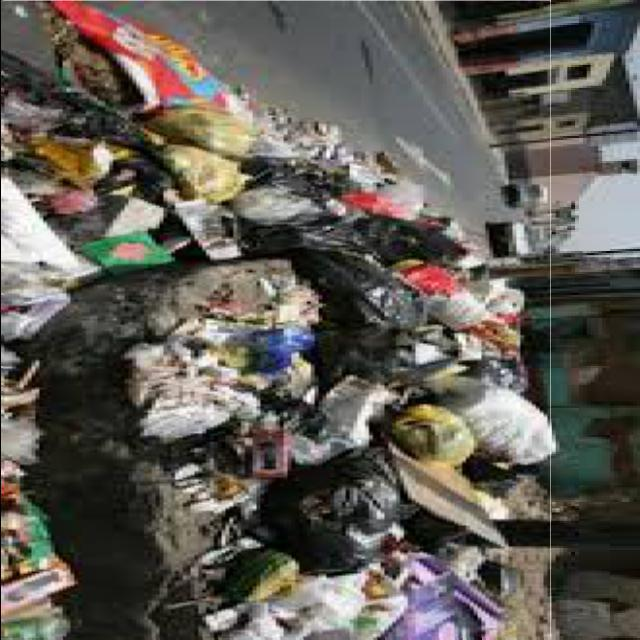Trashbag: (265, 449, 417, 575), (286, 233, 420, 354)
